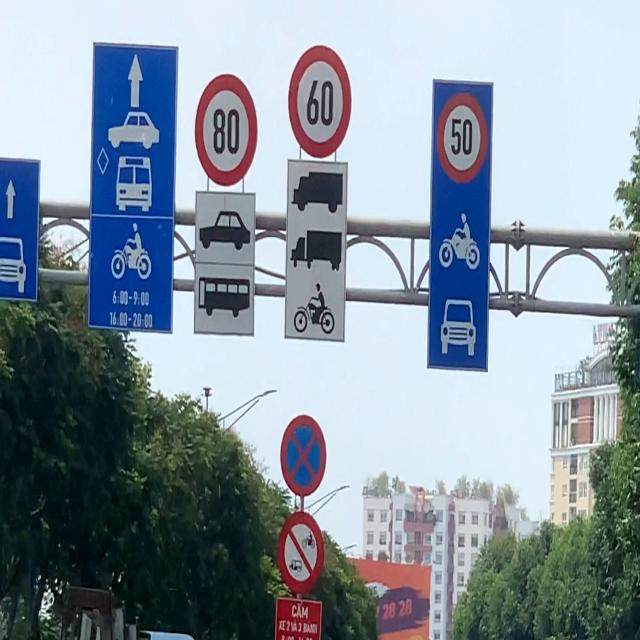P.127: (194, 69, 262, 185), (290, 39, 354, 160), (437, 89, 487, 183)
P.130: (278, 411, 329, 500)
